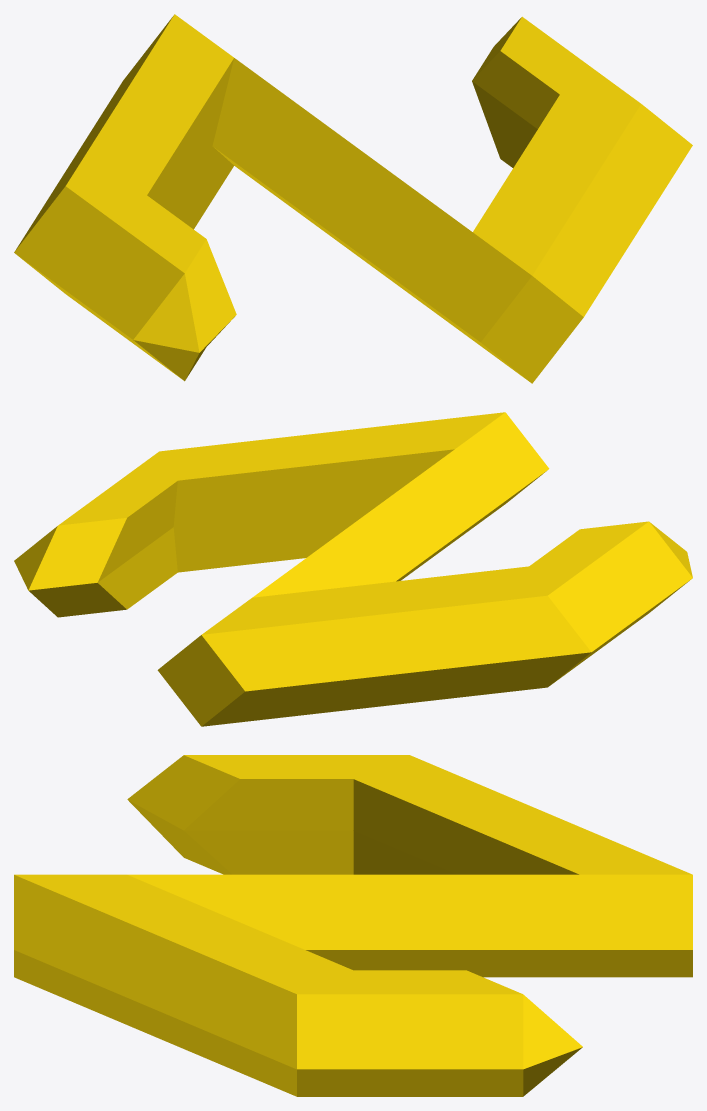
The model's file is SeaRadarShot.dae.
3 views of the same model, one above another, from view 1: azimuth 30°, elevation 25°; view 2: azimuth 150°, elevation 25°; view 3: azimuth 270°, elevation 25° (orthographic). The views are drawn at different scales.
Visible parts, largest first — view 1: Cube; view 2: Cube; view 3: Cube.
Part boxes in pixels (<box>): Cube: <box>14,14,692,383</box>; Cube: <box>14,412,692,726</box>; Cube: <box>14,755,692,1096</box>.
Bounding box in the file's own units: 12 × 12 × 2.
